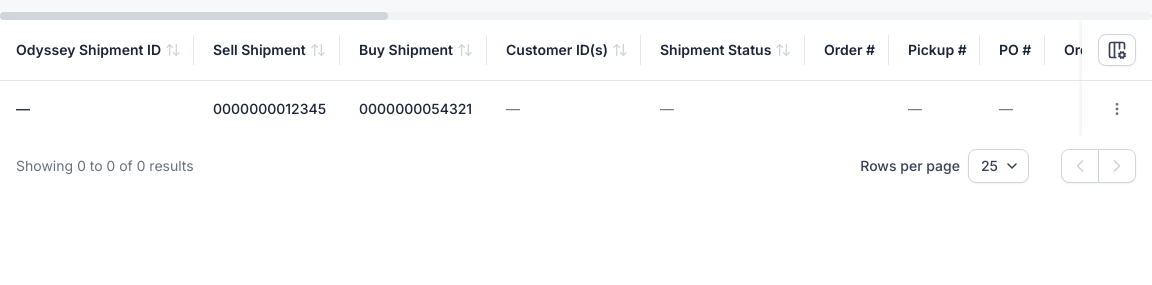
Test: ShipmentTable — row actions menu (LINX-14509 Review Order Change) › order-change rows expose Review Order Change in the actions menu
Click the button named "Shipment actions": (1117, 109) [1103, 95, 1131, 123]
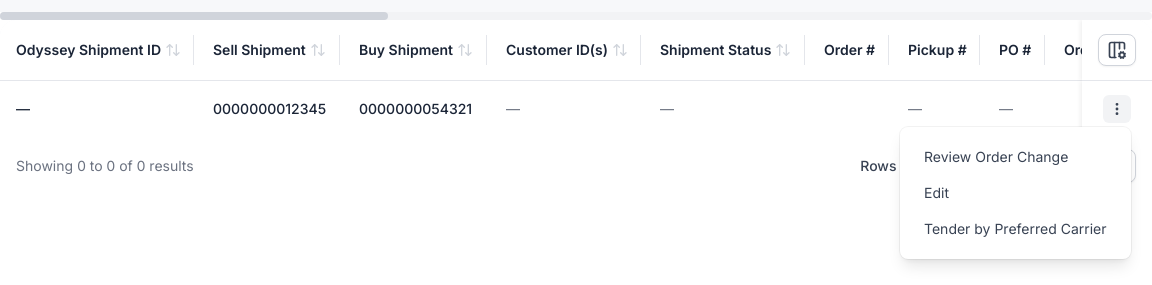
Expected: the menu item "Review Order Change" is shown, [924, 148, 1068, 165]
Expected: the menu item "Edit" is shown, [924, 184, 949, 201]
Expected: the menu item "Tender by Preferred Carrier" is shown, [924, 220, 1106, 237]
